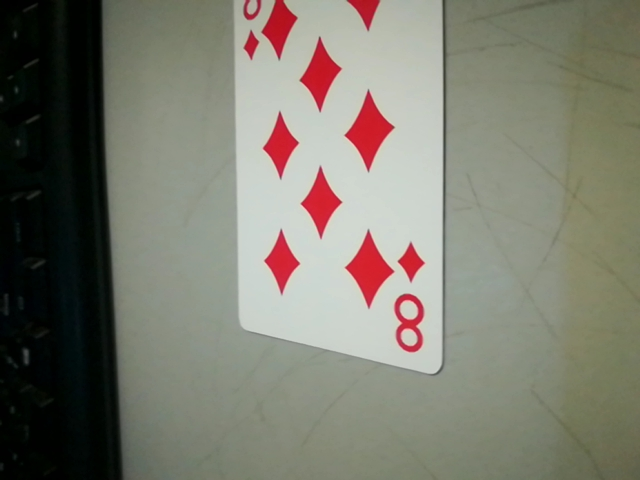fk 8: (384, 235, 436, 365)
